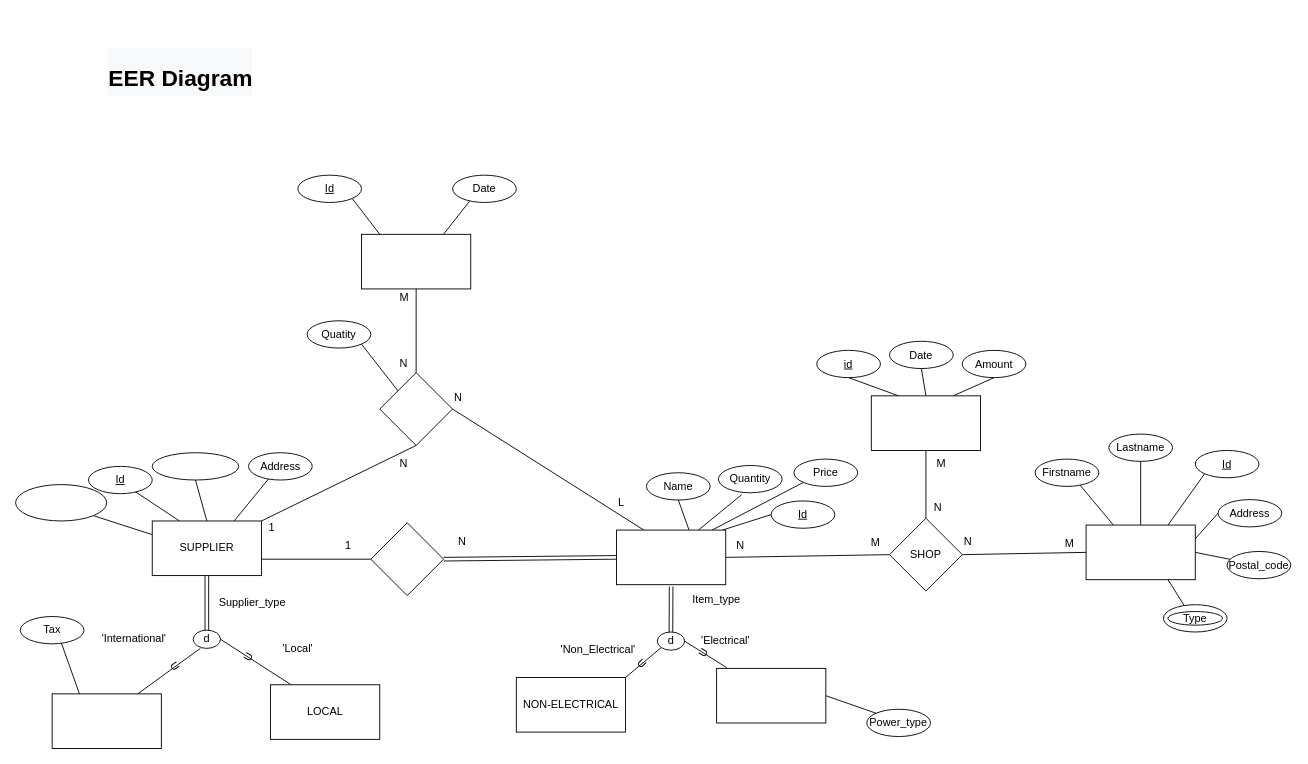
Image size: 1308x764. Some labels were removed from this diagram. Each missing label, with the centre of its shape:
"Company_name" goes at [195,466].
"CUSTOMER" goes at [1140,552].
"ELECTRICAL" goes at [771,695].
"HAS" goes at [407,559].
"INTERNATIONAL" goes at [106,720].
"ITEM" goes at [671,557].
"ORDER" goes at [416,261].
"ORDERLINE" goes at [416,408].
"PURCHASE" goes at [925,422].
"Sales_contact" goes at [61,502].
